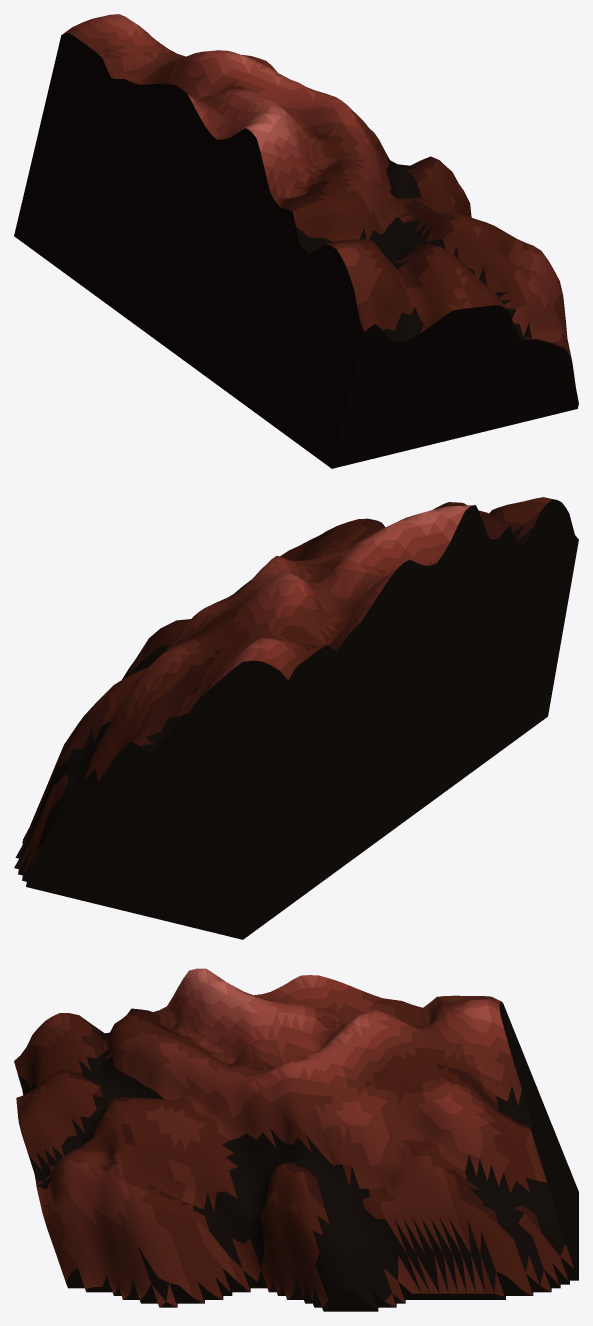
The model's file is brain_mid_4.glb.
The picture shows the model from 3 angles, top to bottom: view 1: azimuth 30°, elevation 25°; view 2: azimuth 150°, elevation 25°; view 3: azimuth 270°, elevation 25°; orthographic projection. The views are drawn at different scales.
Parts seen in each view (by area): view 1: brain_mid_4; view 2: brain_mid_4; view 3: brain_mid_4.
Boxes of the visible parts, box(x1,y1,x2,y2) form: brain_mid_4: box(14, 14, 578, 468); brain_mid_4: box(14, 497, 578, 939); brain_mid_4: box(14, 968, 578, 1311).
Size of the model in its own units: 15.5 by 13.58 by 30.96.
